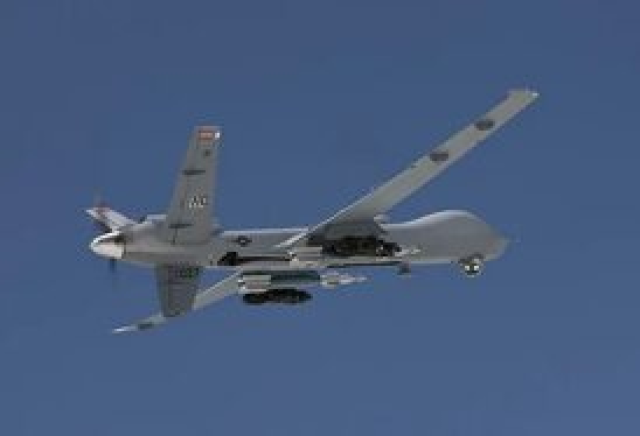military drone: (82, 88, 540, 332)
